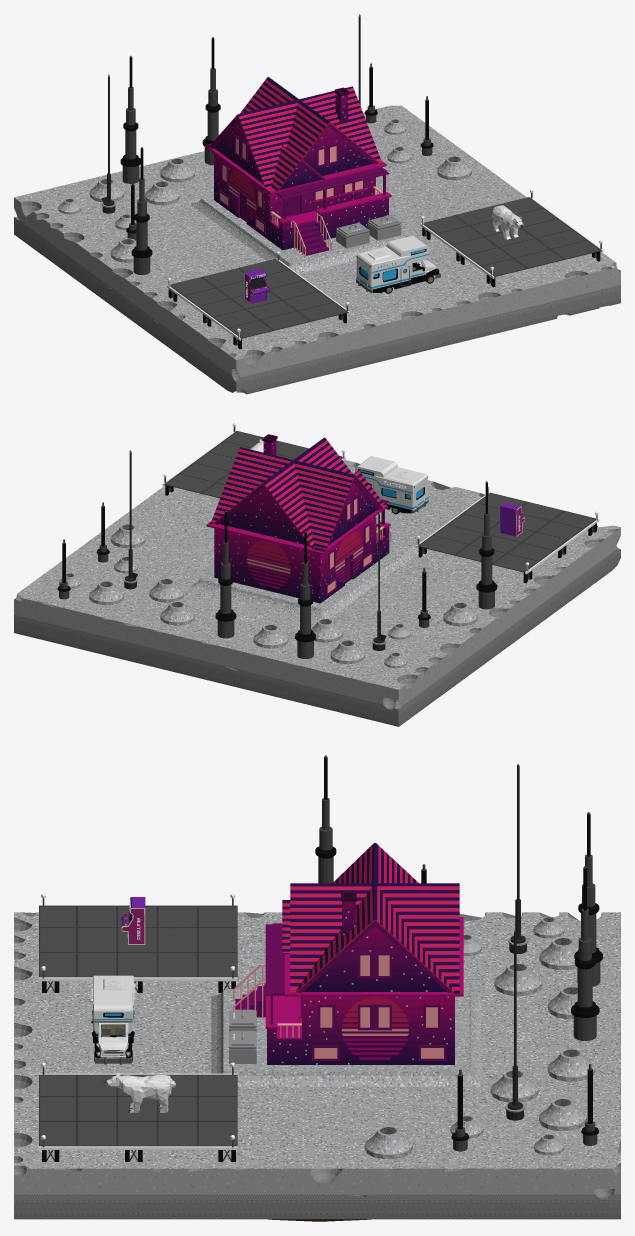
3 views of the same model, one above another, from view 1: azimuth 30°, elevation 25°; view 2: azimuth 150°, elevation 25°; view 3: azimuth 270°, elevation 25° (orthographic). The views are drawn at different scales.
Visible parts, largest first — view 1: Cube.027, Cube.156, Cube.026, Cube.025, Cube.028, VEHICLES_CAMPER, Cylinder.021, Cylinder.020, Cylinder.017, OBJRANDOM_ARCADE, ANIMAL_OSO_POLAR, Cube.029 (+5 smaller); view 2: Cube.027, Cube.156, Cube.025, Cube.028, Cube.026, VEHICLES_CAMPER, Cylinder.017, Cylinder.021, Cylinder.020, OBJRANDOM_ARCADE, Cylinder.027, Cylinder.029 (+8 smaller); view 3: Cube.027, Cube.156, Cube.025, Cube.026, Cube.028, VEHICLES_CAMPER, Cylinder.017, ANIMAL_OSO_POLAR, Cylinder.020, Cylinder.021, Cylinder.033, Cylinder.031 (+11 smaller).
Part boxes in pixels (x1=…): Cube.027: x1=14, y1=105, x2=620, y2=394; Cube.156: x1=205, y1=77, x2=391, y2=256; Cube.026: x1=420, y1=189, x2=603, y2=287; Cube.025: x1=167, y1=251, x2=349, y2=348; Cube.028: x1=191, y1=195, x2=424, y2=273; VEHICLES_CAMPER: x1=356, y1=236, x2=440, y2=293; Cylinder.021: x1=131, y1=147, x2=152, y2=274; Cylinder.020: x1=120, y1=56, x2=140, y2=183; Cylinder.017: x1=202, y1=37, x2=220, y2=165; OBJRANDOM_ARCADE: x1=244, y1=268, x2=269, y2=303; ANIMAL_OSO_POLAR: x1=492, y1=205, x2=523, y2=240; Cube.029: x1=336, y1=222, x2=369, y2=248; Cube.027: x1=14, y1=460, x2=620, y2=726; Cube.156: x1=206, y1=434, x2=391, y2=603; Cube.025: x1=416, y1=485, x2=599, y2=583; Cube.028: x1=189, y1=537, x2=418, y2=620; Cube.026: x1=162, y1=423, x2=345, y2=498; VEHICLES_CAMPER: x1=355, y1=456, x2=428, y2=514; Cylinder.017: x1=215, y1=510, x2=236, y2=638; Cylinder.021: x1=476, y1=481, x2=497, y2=609; Cylinder.020: x1=295, y1=531, x2=315, y2=658; OBJRANDOM_ARCADE: x1=500, y1=502, x2=524, y2=536; Cylinder.027: x1=253, y1=624, x2=288, y2=648; Cylinder.029: x1=160, y1=601, x2=194, y2=625; Cube.027: x1=14, y1=912, x2=620, y2=1219; Cube.156: x1=233, y1=843, x2=463, y2=1064; Cube.025: x1=39, y1=893, x2=237, y2=992; Cube.026: x1=39, y1=1062, x2=237, y2=1161; Cube.028: x1=211, y1=989, x2=481, y2=1086; VEHICLES_CAMPER: x1=91, y1=975, x2=135, y2=1064; Cylinder.017: x1=571, y1=866, x2=599, y2=1040; ANIMAL_OSO_POLAR: x1=103, y1=1073, x2=175, y2=1112; Cylinder.020: x1=574, y1=812, x2=602, y2=986; Cylinder.021: x1=315, y1=755, x2=336, y2=883; Cylinder.033: x1=364, y1=1126, x2=412, y2=1158; Cylinder.031: x1=539, y1=1098, x2=586, y2=1130.
Bounding box in the file's own units: 4000 × 1865 × 4000.
Materials: 42 (6 with a texture image).
